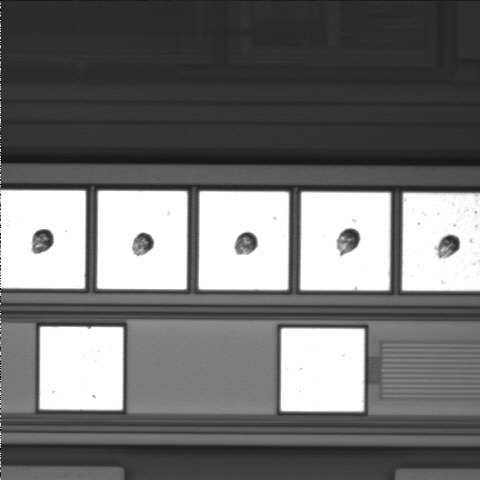pad: (199, 191, 289, 290), (97, 191, 187, 289), (300, 192, 390, 290), (40, 327, 123, 410), (281, 328, 364, 411)
